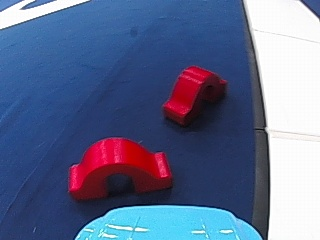bridge: (62, 133, 177, 203), (160, 63, 226, 126)
